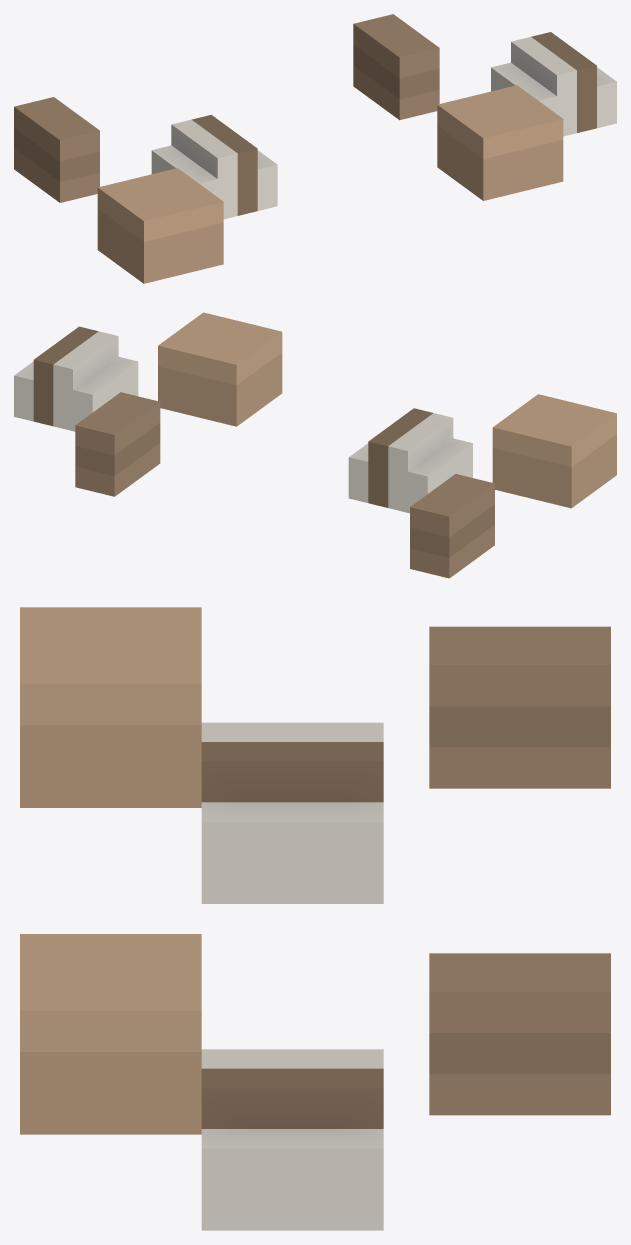
Rendered from galleon.cargo.glb.
3 views of the same model, one above another, from view 1: azimuth 30°, elevation 25°; view 2: azimuth 150°, elevation 25°; view 3: azimuth 270°, elevation 25° (orthographic). The views are drawn at different scales.
Parts seen in each view (by area): view 1: galleon; view 2: galleon; view 3: galleon.
Boxes of the visible parts, <box> form: galleon: <box>14,14,616,283</box>; galleon: <box>14,312,616,578</box>; galleon: <box>20,607,610,1230</box>.
Size of the model in its own units: 1.3 by 0.15 by 0.65.
